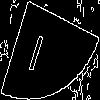I: (25, 25, 49, 73)
